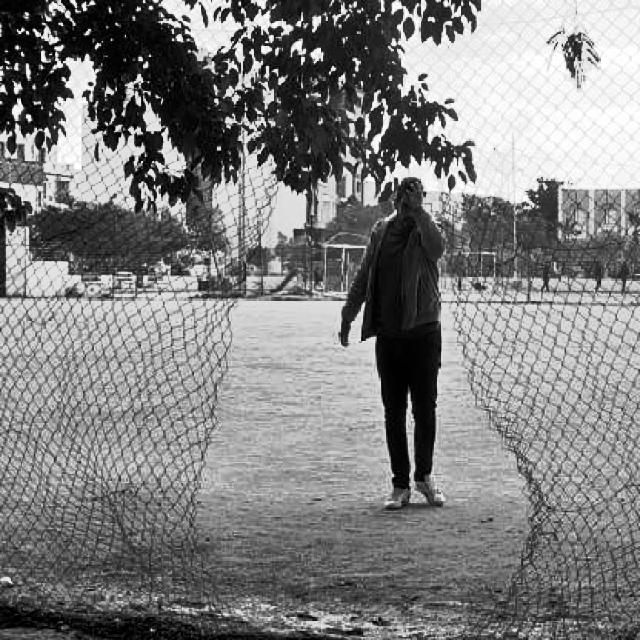anomaly-fence: (180, 103, 582, 640)
